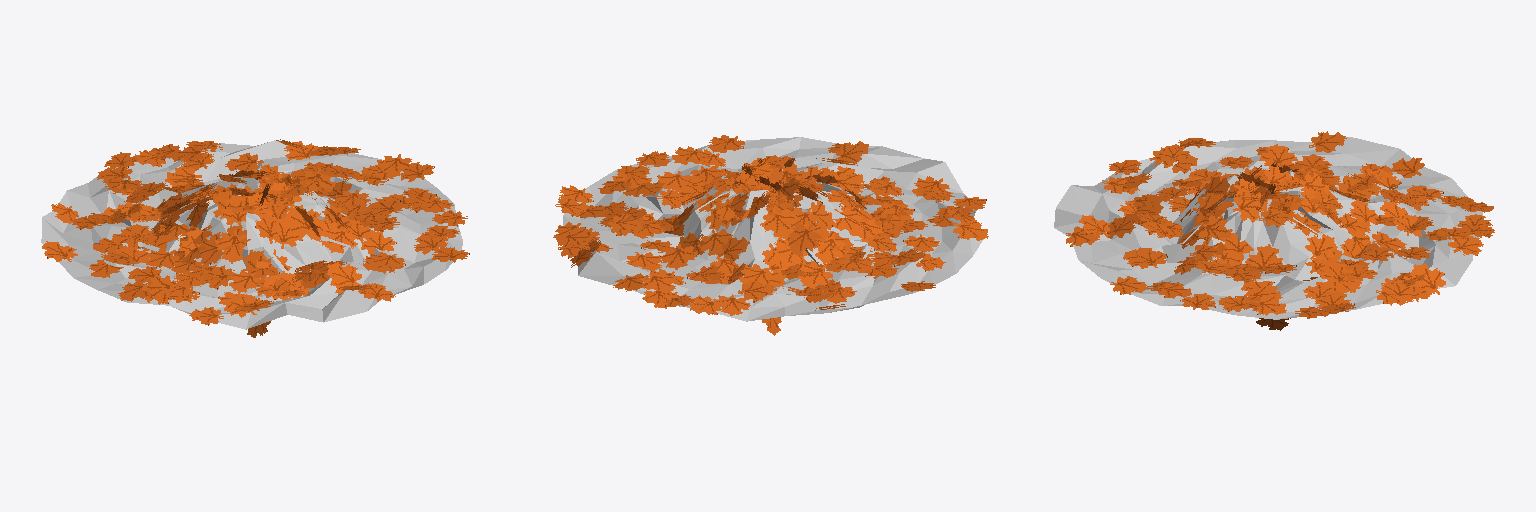
3 views of the same model, side by side, from view 1: azimuth 30°, elevation 25°; view 2: azimuth 150°, elevation 25°; view 3: azimuth 270°, elevation 25° (orthographic).
Visible parts, largest first — view 1: leaf.001, Sphere; view 2: leaf.001, Sphere; view 3: leaf.001, Sphere.
Part boxes in pixels (left/top/right/bottom): leaf.001: left=42, top=139, right=469, bottom=337; Sphere: left=41, top=140, right=462, bottom=329; leaf.001: left=553, top=135, right=988, bottom=335; Sphere: left=563, top=137, right=983, bottom=321; leaf.001: left=1066, top=131, right=1494, bottom=330; Sphere: left=1054, top=137, right=1482, bottom=319.
Size of the model in its own units: 11.5 by 4.78 by 11.61.
2 materials, 1 textured.